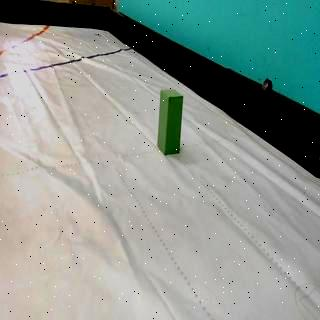greenbox: (156, 88, 183, 156)
